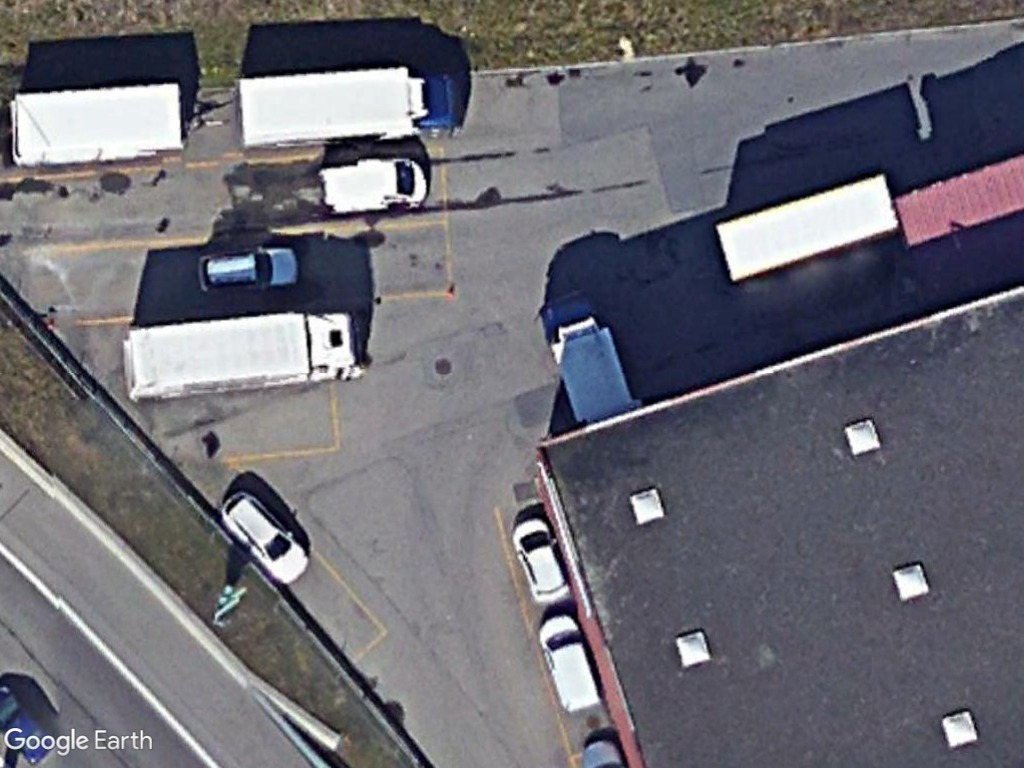car: (221, 490, 311, 587), (197, 242, 300, 297), (511, 515, 571, 604)
truck: (122, 305, 366, 406), (237, 64, 468, 156)
van: (537, 608, 601, 714), (314, 158, 428, 214)
